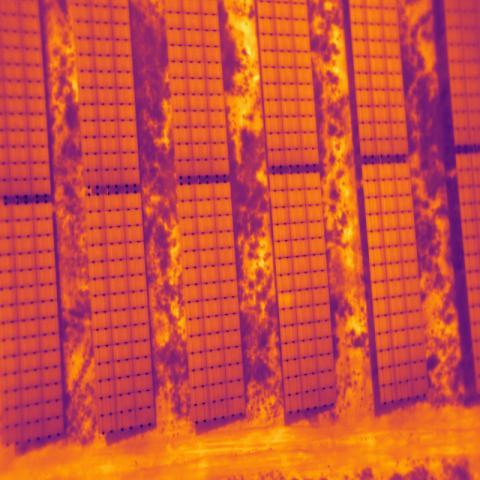fault: (278, 290, 296, 310)
